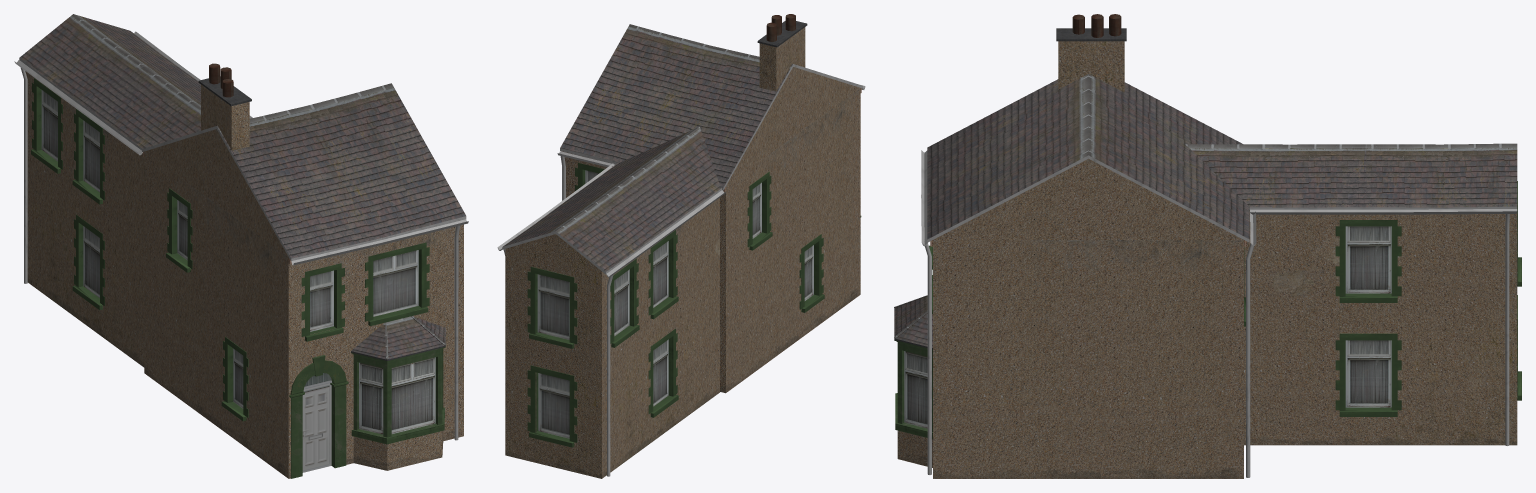
File: ukterracedvictorianc3m.FBX
3 views of the same model, side by side, from view 1: azimuth 30°, elevation 25°; view 2: azimuth 150°, elevation 25°; view 3: azimuth 270°, elevation 25° (orthographic). The views are drawn at different scales.
Parts seen in each view (by area): view 1: Object003; view 2: Object003; view 3: Object003.
Boxes of the visible parts, box(x1,y1,x2,y2) form: Object003: box(14, 14, 468, 478); Object003: box(497, 14, 865, 478); Object003: box(894, 14, 1521, 478).
Size of the model in its own units: 572 by 1073 by 1615.
